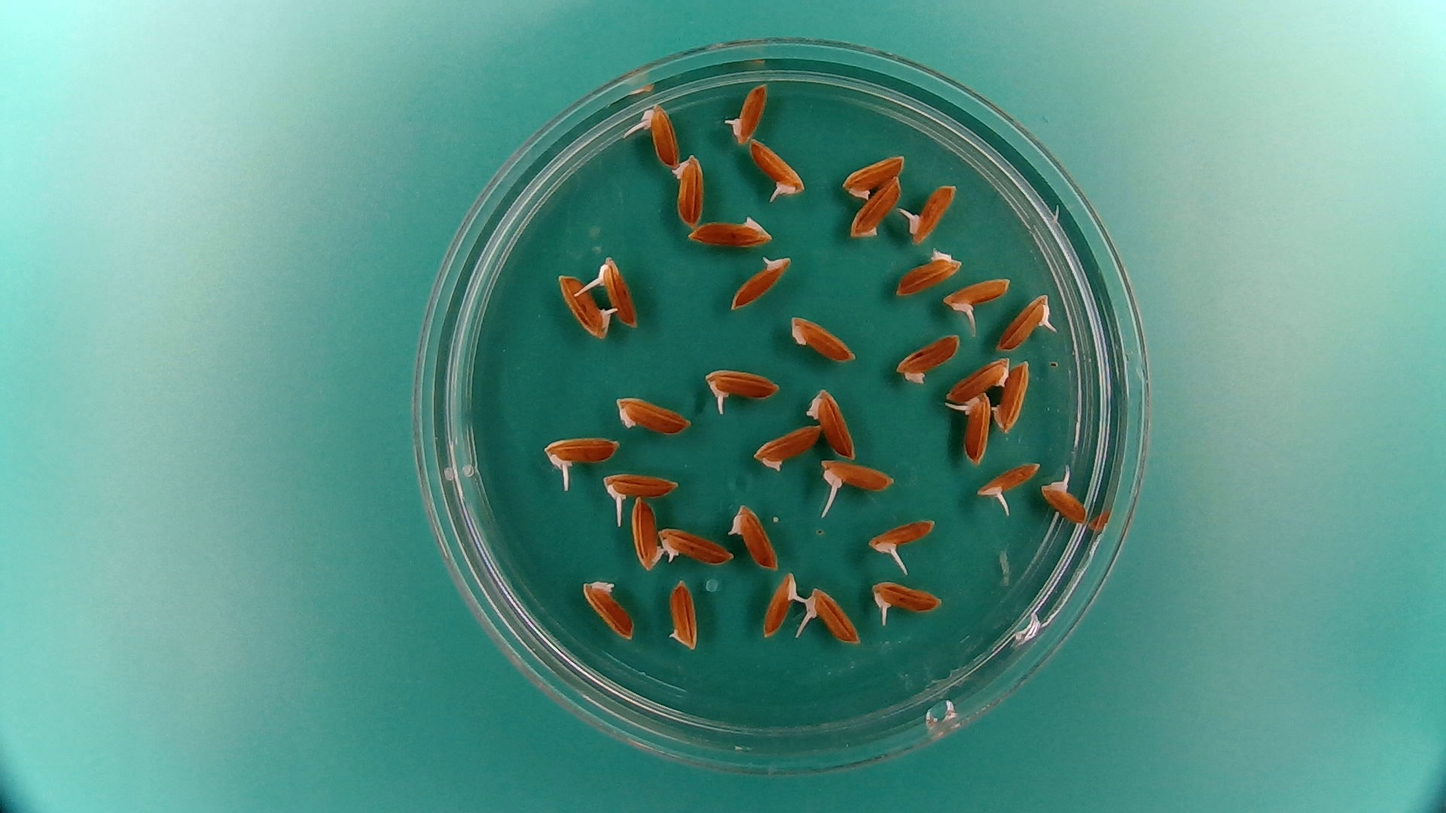no: (786, 312, 860, 367), (751, 419, 825, 474), (891, 244, 965, 299), (847, 174, 905, 242), (581, 576, 639, 644), (892, 330, 962, 386), (612, 391, 695, 437), (683, 210, 775, 250), (942, 354, 1013, 403), (806, 389, 855, 460), (838, 150, 908, 199), (664, 575, 703, 654), (669, 149, 708, 227), (993, 355, 1031, 434), (627, 495, 664, 572)
yes: (930, 388, 992, 469), (864, 514, 940, 574), (726, 250, 795, 315), (700, 364, 784, 416), (584, 254, 639, 330), (746, 135, 807, 202), (801, 583, 864, 647), (538, 431, 624, 477), (900, 178, 958, 244), (596, 467, 684, 510), (815, 456, 899, 501), (559, 269, 612, 340), (728, 500, 781, 571), (867, 577, 947, 624), (654, 523, 737, 568), (973, 458, 1042, 510), (996, 294, 1055, 353), (722, 78, 772, 147), (635, 99, 682, 169), (758, 568, 803, 641), (1039, 471, 1088, 526), (942, 279, 1014, 315)
